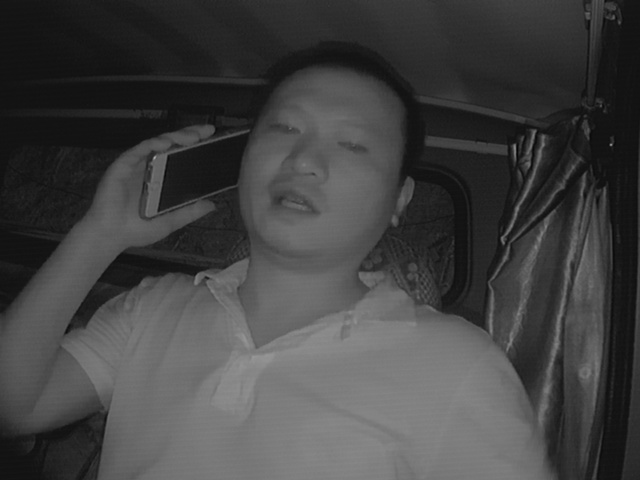hand: (87, 119, 215, 242)
